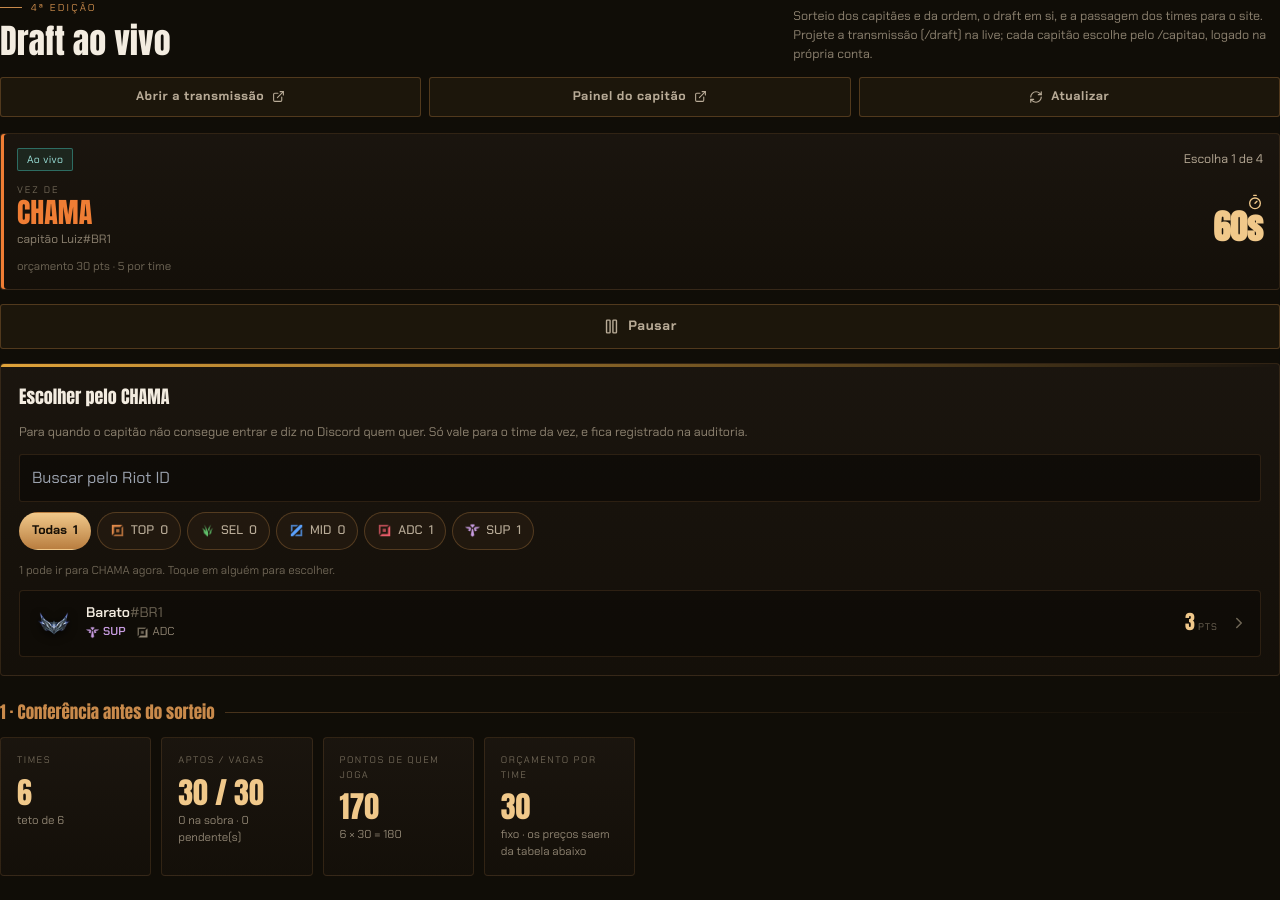
Test: Draft ao vivo no celular › tocar abre a folha com o orçamento depois da escolha; confirmar manda a vez lida no toque
Click the button with aria-label "Escolher Barato#BR1 para CHAMA": [108, 612] box [86,603,1173,621]
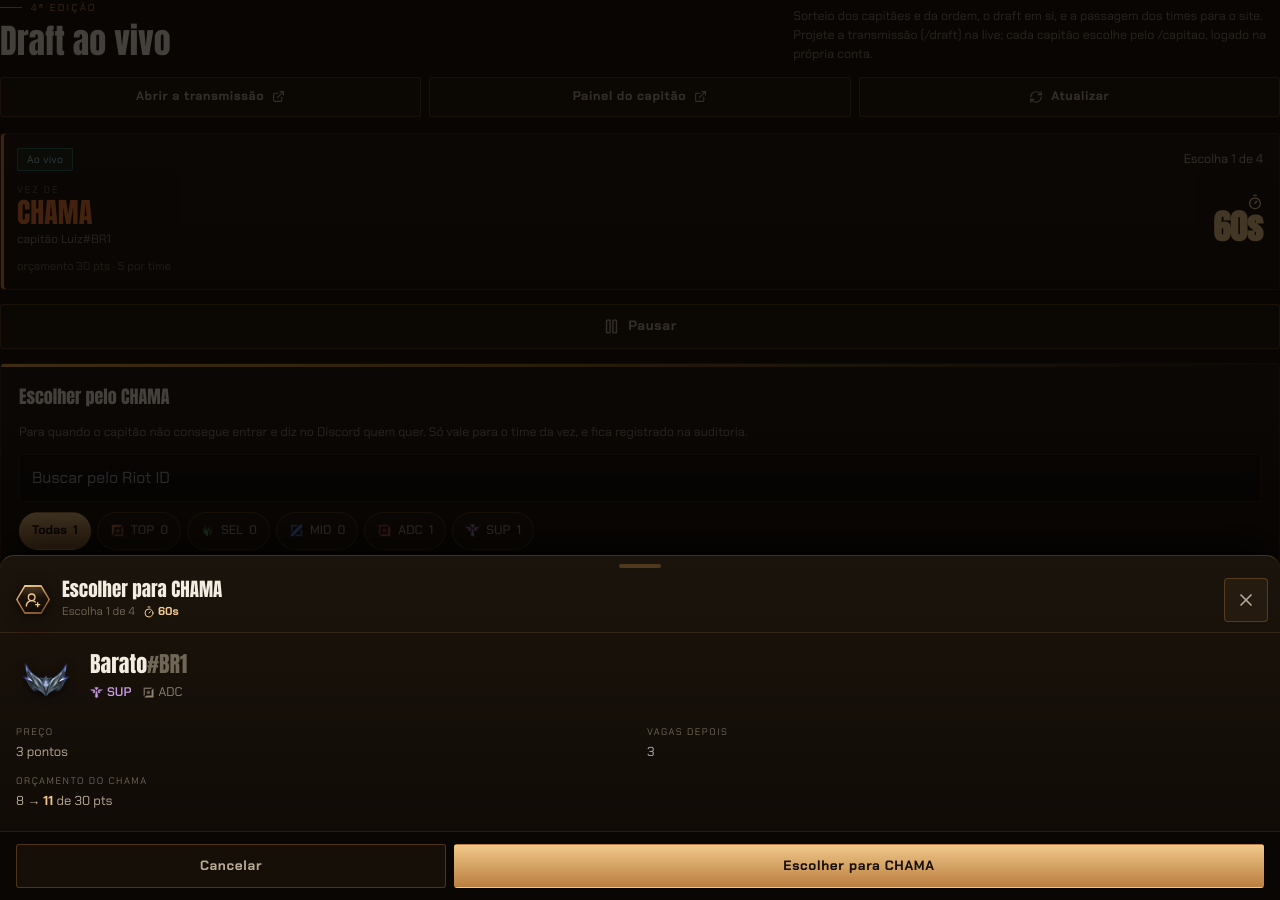
Check: the heading "Escolher para CHAMA" is shown, box [62,575,222,603]
Check: the dialog shows "8 → 11 de 30 pts", box [0,555,1279,899]
Click the button "Escolher para CHAMA": [859, 866] box [454,844,1264,888]
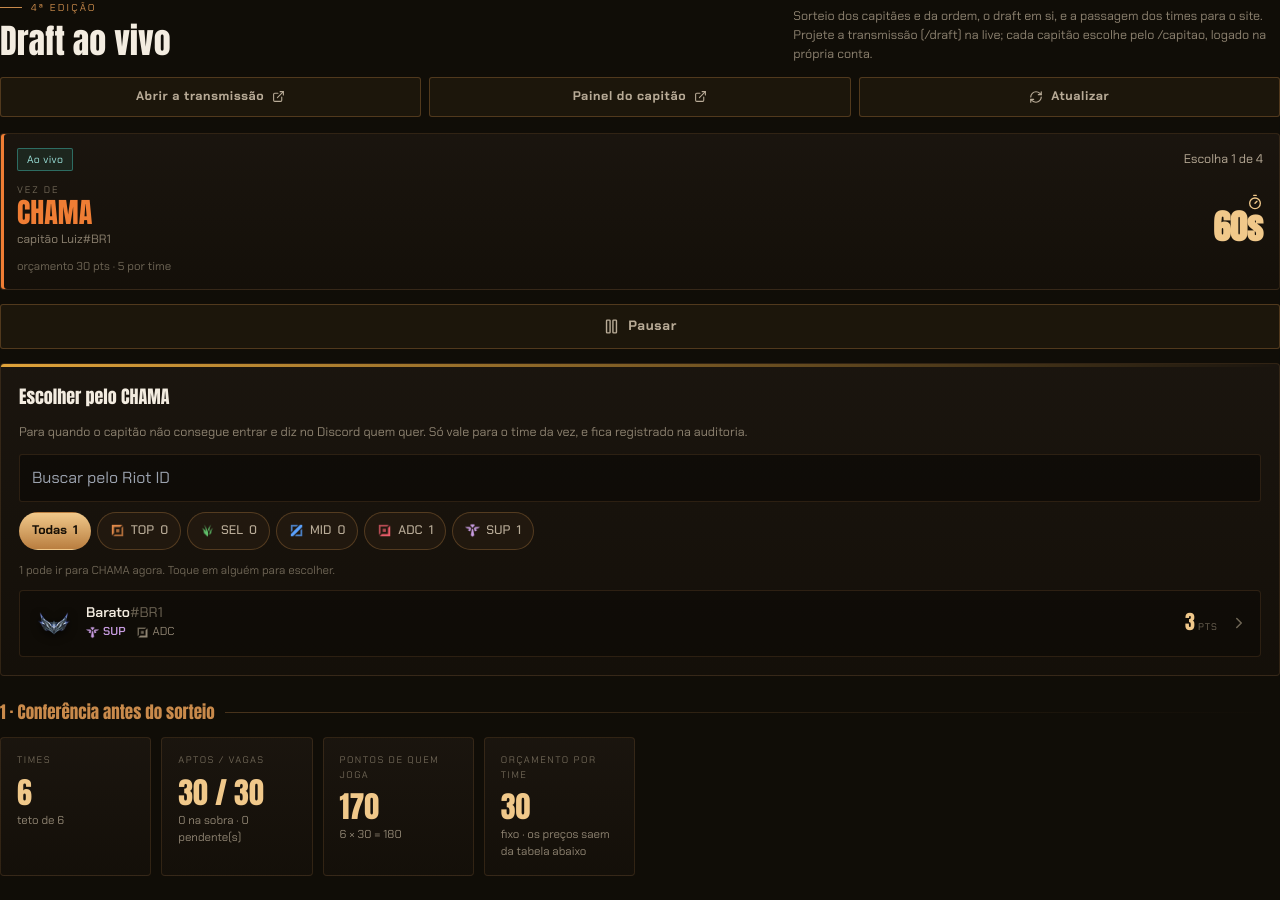
Check: the dialog is gone
